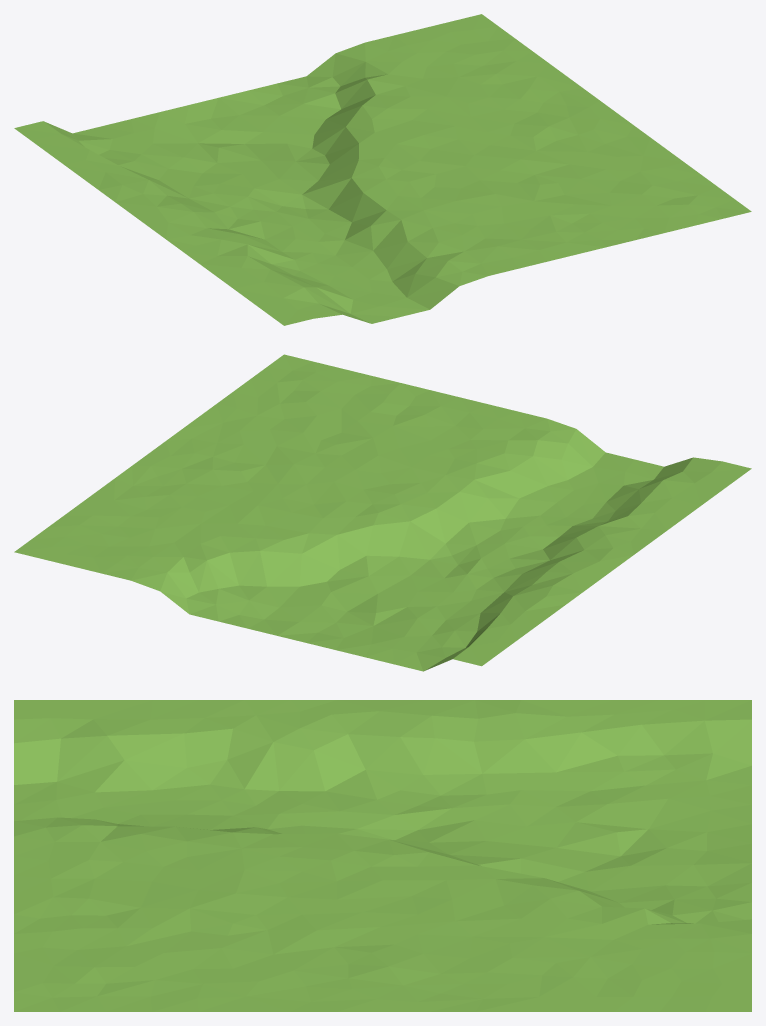
Rendered from MT_River_End_M_b_01_LOD.fbx.
3 renders of one model, top to bottom at view 1: azimuth 30°, elevation 25°; view 2: azimuth 150°, elevation 25°; view 3: azimuth 270°, elevation 25°, orthographic. The views are drawn at different scales.
Parts seen in each view (by area): view 1: MT_River_End_M_b_01_LOD0; view 2: MT_River_End_M_b_01_LOD0; view 3: MT_River_End_M_b_01_LOD0.
Part boxes in pixels (left/top/right/bottom): MT_River_End_M_b_01_LOD0: left=14, top=14, right=751, bottom=325; MT_River_End_M_b_01_LOD0: left=14, top=354, right=751, bottom=671; MT_River_End_M_b_01_LOD0: left=14, top=700, right=751, bottom=1011.
Size of what is drawn, in the model's own units: 50 by 2.69 by 50.
